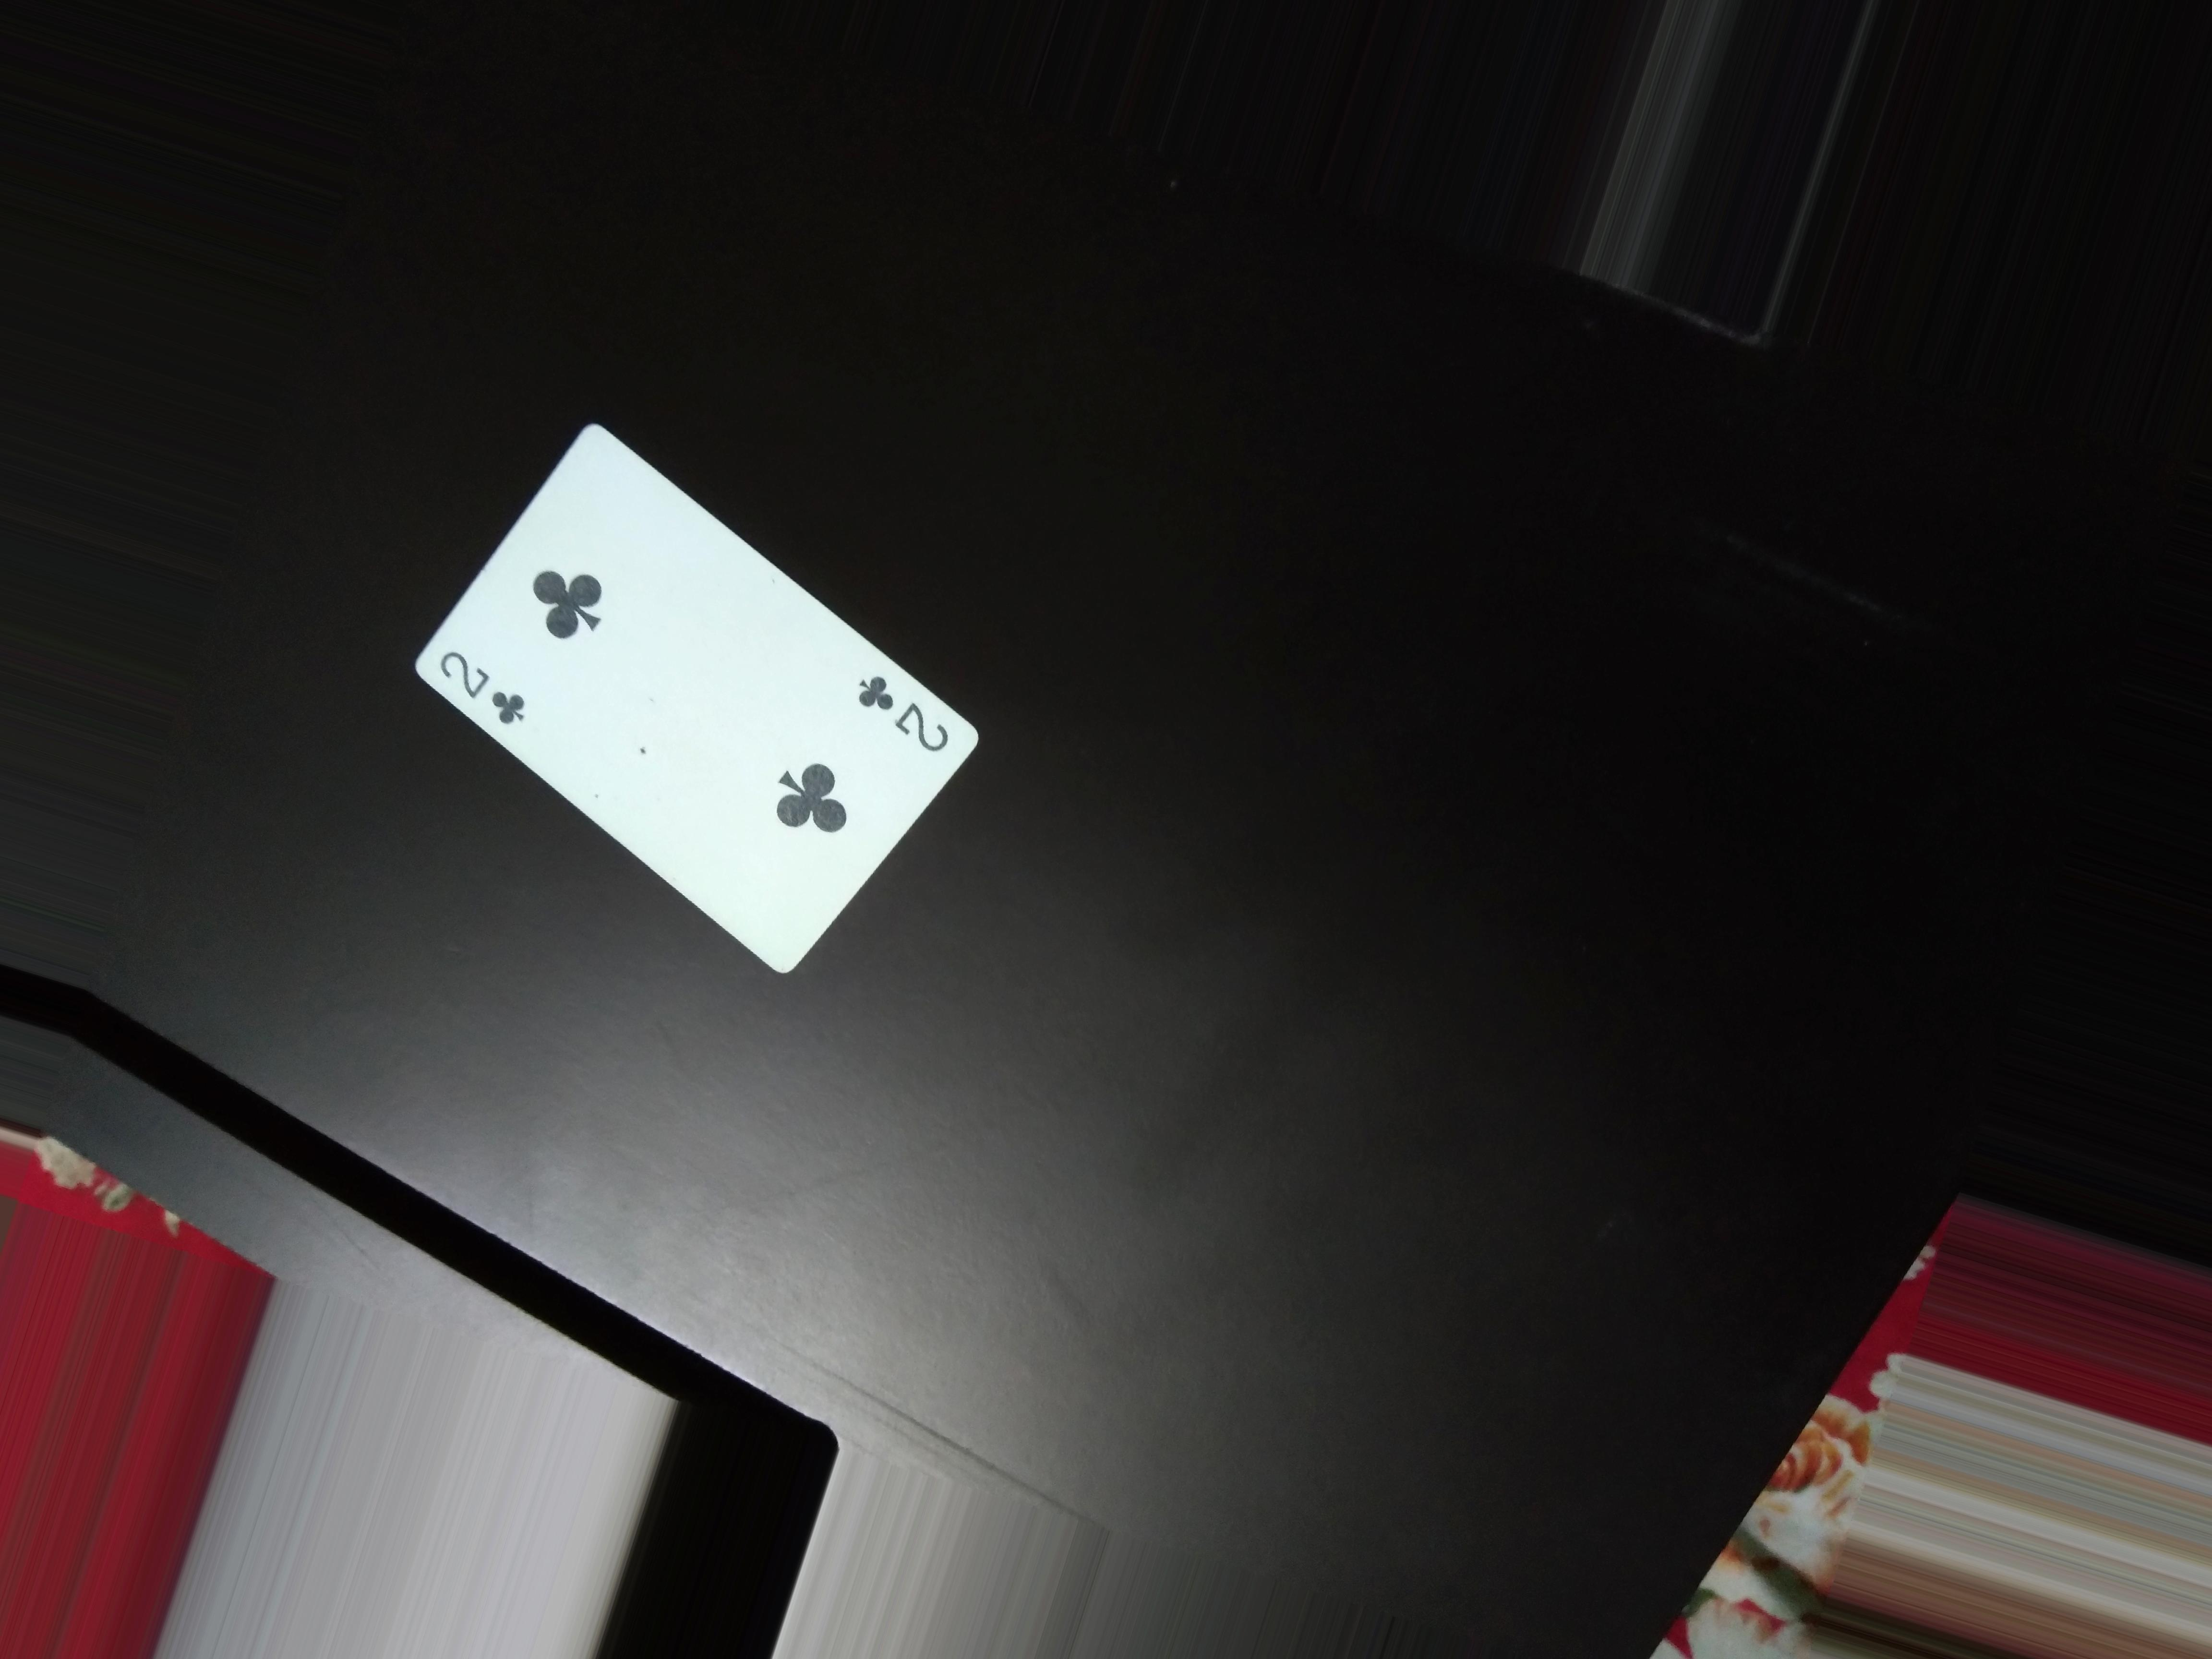2C: (425, 645, 538, 728)
